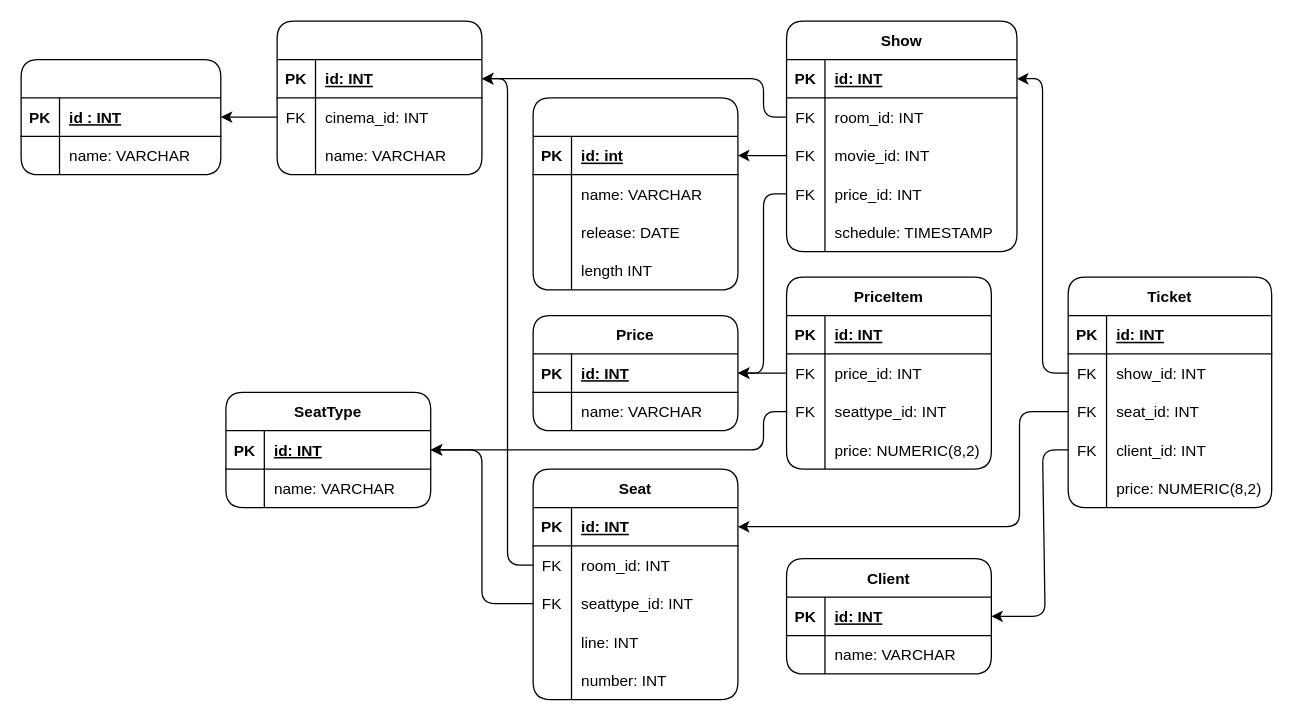
Image size: 1293x721. Some labels were removed from this diagram. The box of each missing label's shape, as (x1, y1, x2, y2) in pixels:
Cinema: (20, 58, 221, 175)
Movie: (532, 97, 738, 290)
Room: (276, 20, 482, 175)
